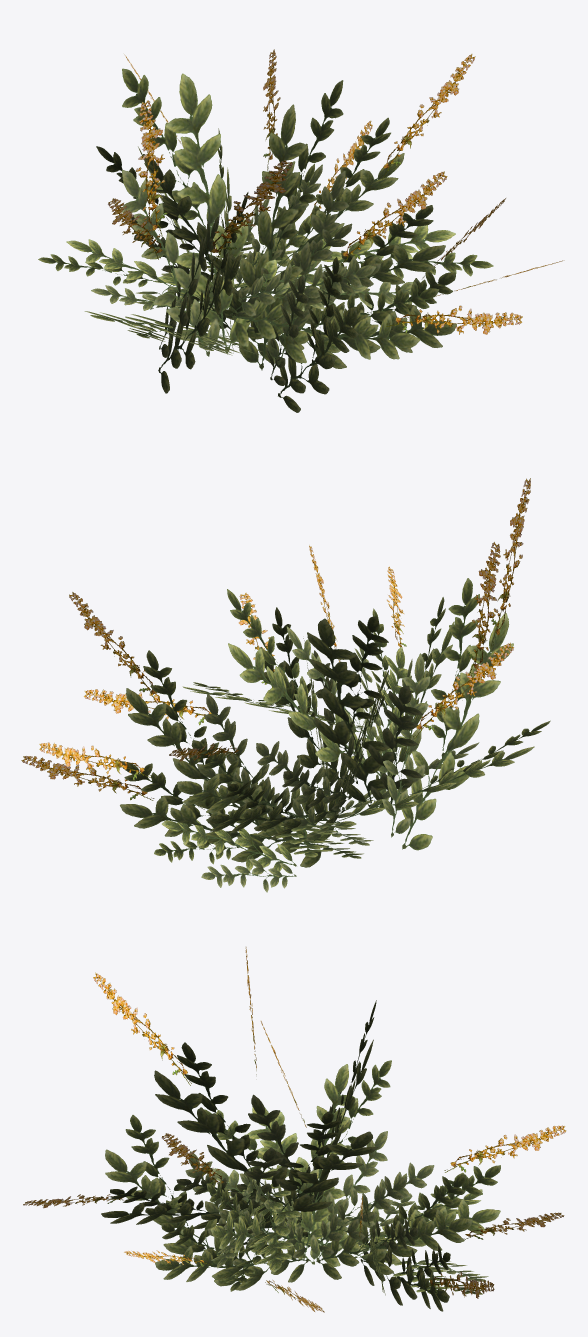
File: flower_10_lod.FBX
The picture shows the model from 3 angles, top to bottom: view 1: azimuth 30°, elevation 25°; view 2: azimuth 150°, elevation 25°; view 3: azimuth 270°, elevation 25°; orthographic projection. The views are drawn at different scales.
Parts seen in each view (by area): view 1: Mesh Object; view 2: Mesh Object; view 3: Mesh Object.
Boxes of the visible parts, x1,y1,x2,y2 form: Mesh Object: (38, 49, 564, 412); Mesh Object: (21, 478, 550, 892); Mesh Object: (23, 947, 566, 1312).
Size of the model in its own units: 1.15 by 0.8179 by 1.31.
